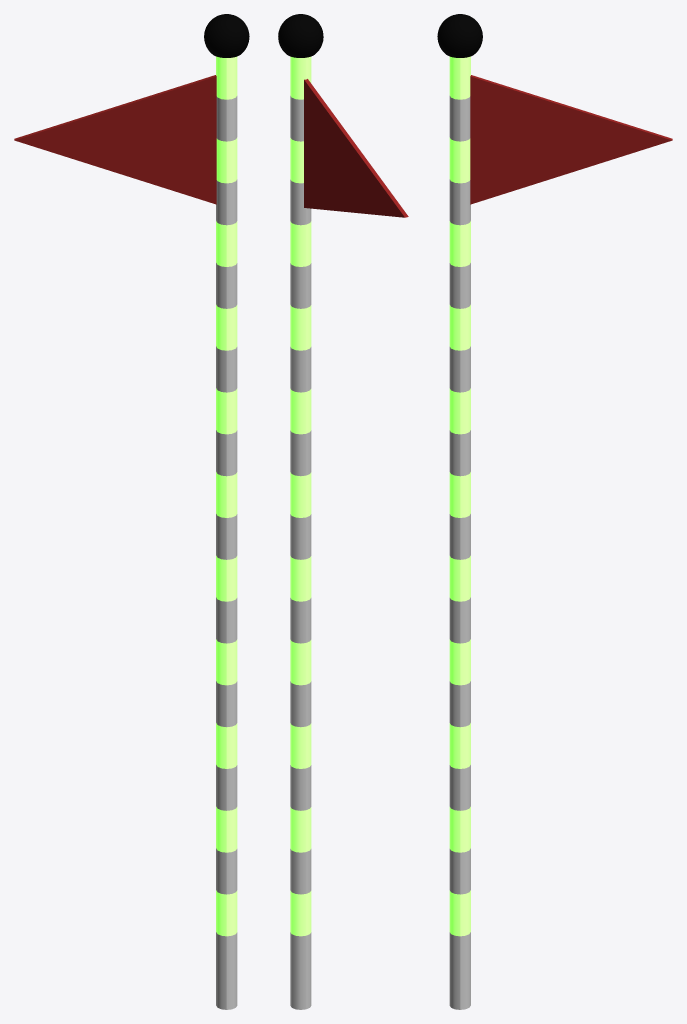
File: Hole 1 Flag Pole.glb
The picture shows the model from 3 angles, left to right: view 1: azimuth 90°, elevation 25°; view 2: azimuth 210°, elevation 25°; view 3: azimuth 270°, elevation 25°; orthographic projection.
Parts seen in each view (by area): view 1: Flag Pole; view 2: Flag Pole; view 3: Flag Pole.
Boxes of the visible parts, x1=… form: Flag Pole: x1=14, y1=14, x2=249, y2=1009; Flag Pole: x1=278, y1=14, x2=408, y2=1009; Flag Pole: x1=437, y1=14, x2=672, y2=1009.
Size of the model in its own units: 0.0858 by 2.06 by 0.4429.
